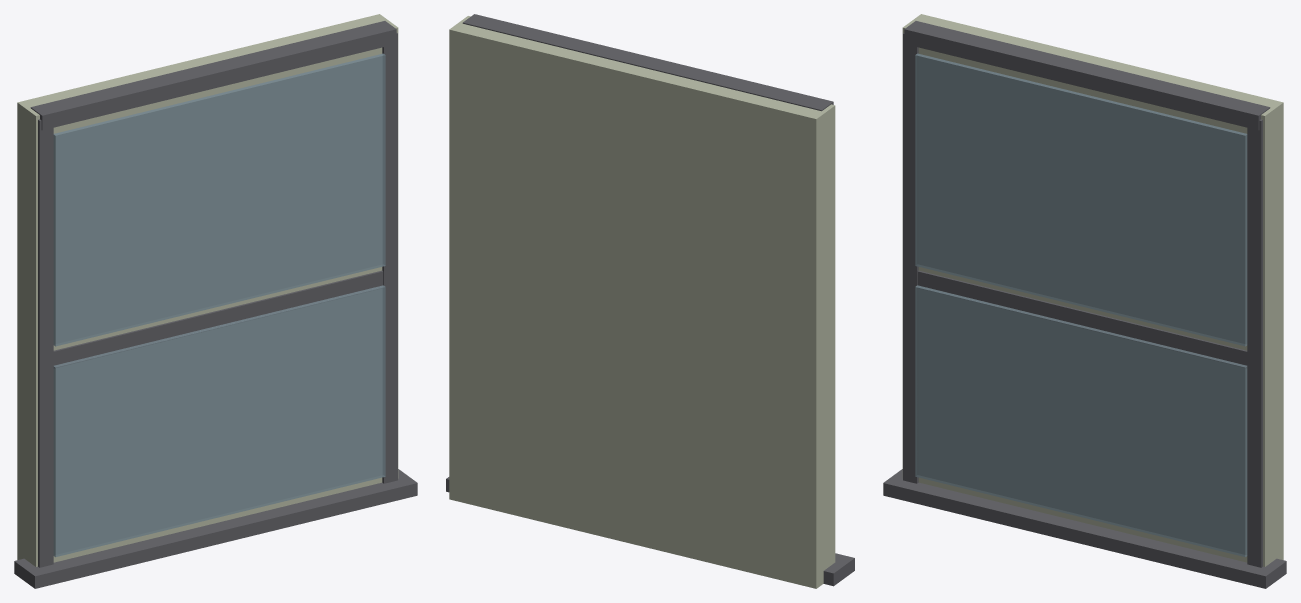
Rendered from SM_P2_Window_Bay_A.obj.
The picture shows the model from 3 angles, left to right: view 1: azimuth 30°, elevation 25°; view 2: azimuth 150°, elevation 25°; view 3: azimuth 330°, elevation 25°; orthographic projection.
Parts seen in each view (by area): view 1: glass_upper, glass_lower, reveal, head, sill, frame_l, transom, frame_r; view 2: reveal, head, sill; view 3: glass_upper, glass_lower, reveal, head, sill, frame_r, frame_l, transom.
Part boxes in pixels (bbox=[...]): glass_upper: bbox=[53, 53, 385, 346]; glass_lower: bbox=[53, 285, 385, 557]; reveal: bbox=[17, 14, 398, 566]; head: bbox=[30, 21, 396, 130]; sill: bbox=[14, 469, 417, 588]; frame_l: bbox=[38, 119, 53, 567]; transom: bbox=[53, 270, 383, 368]; frame_r: bbox=[382, 33, 397, 483]; reveal: bbox=[449, 16, 835, 588]; head: bbox=[462, 14, 833, 111]; sill: bbox=[446, 477, 854, 586]; glass_upper: bbox=[915, 53, 1247, 346]; glass_lower: bbox=[915, 285, 1247, 557]; reveal: bbox=[902, 14, 1283, 566]; head: bbox=[904, 21, 1270, 130]; sill: bbox=[883, 469, 1286, 588]; frame_r: bbox=[1247, 119, 1262, 567]; frame_l: bbox=[903, 33, 918, 483]; transom: bbox=[917, 270, 1247, 368].
Size of the model in its own units: 1.9 by 2.2 by 0.24.
